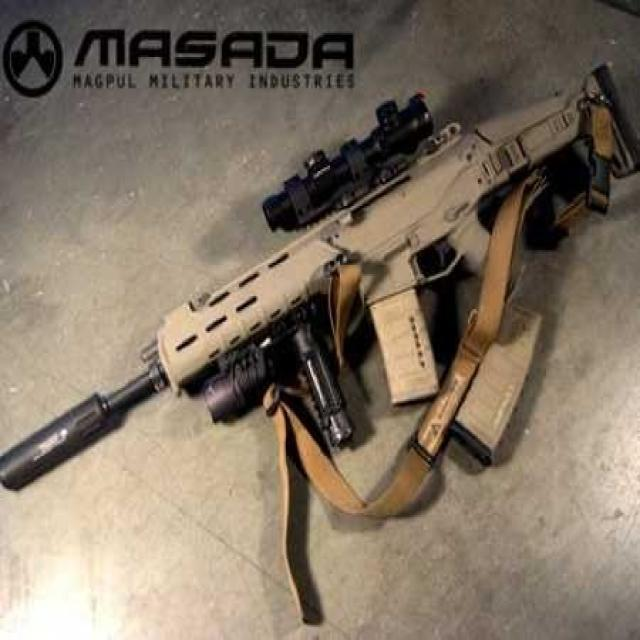heavyweapon: (4, 38, 639, 514)
